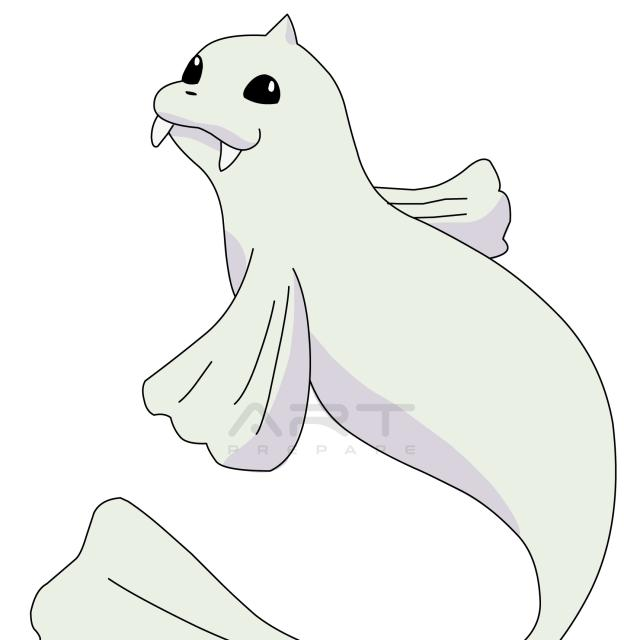Dewgong: (142, 14, 614, 567)
